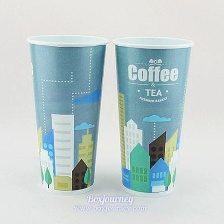paper_cup: (23, 29, 111, 199), (110, 32, 196, 201)
